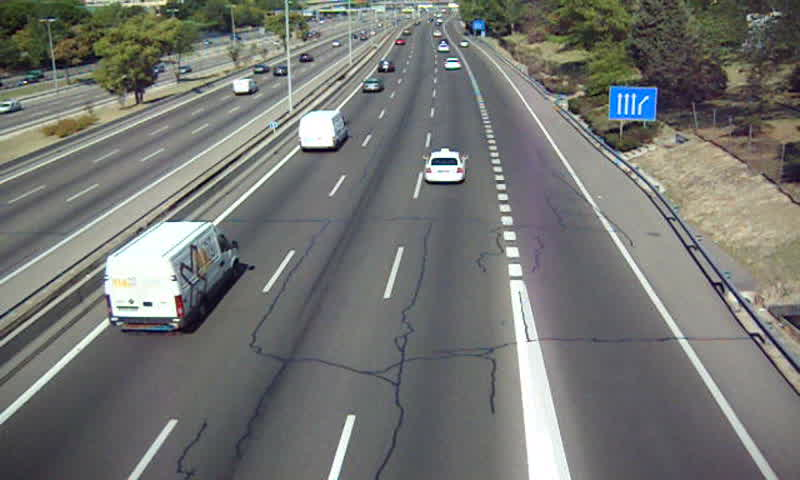car: (425, 149, 468, 183), (360, 78, 383, 95), (378, 58, 395, 75), (443, 57, 462, 72)
van: (104, 221, 239, 335), (298, 111, 348, 151)
